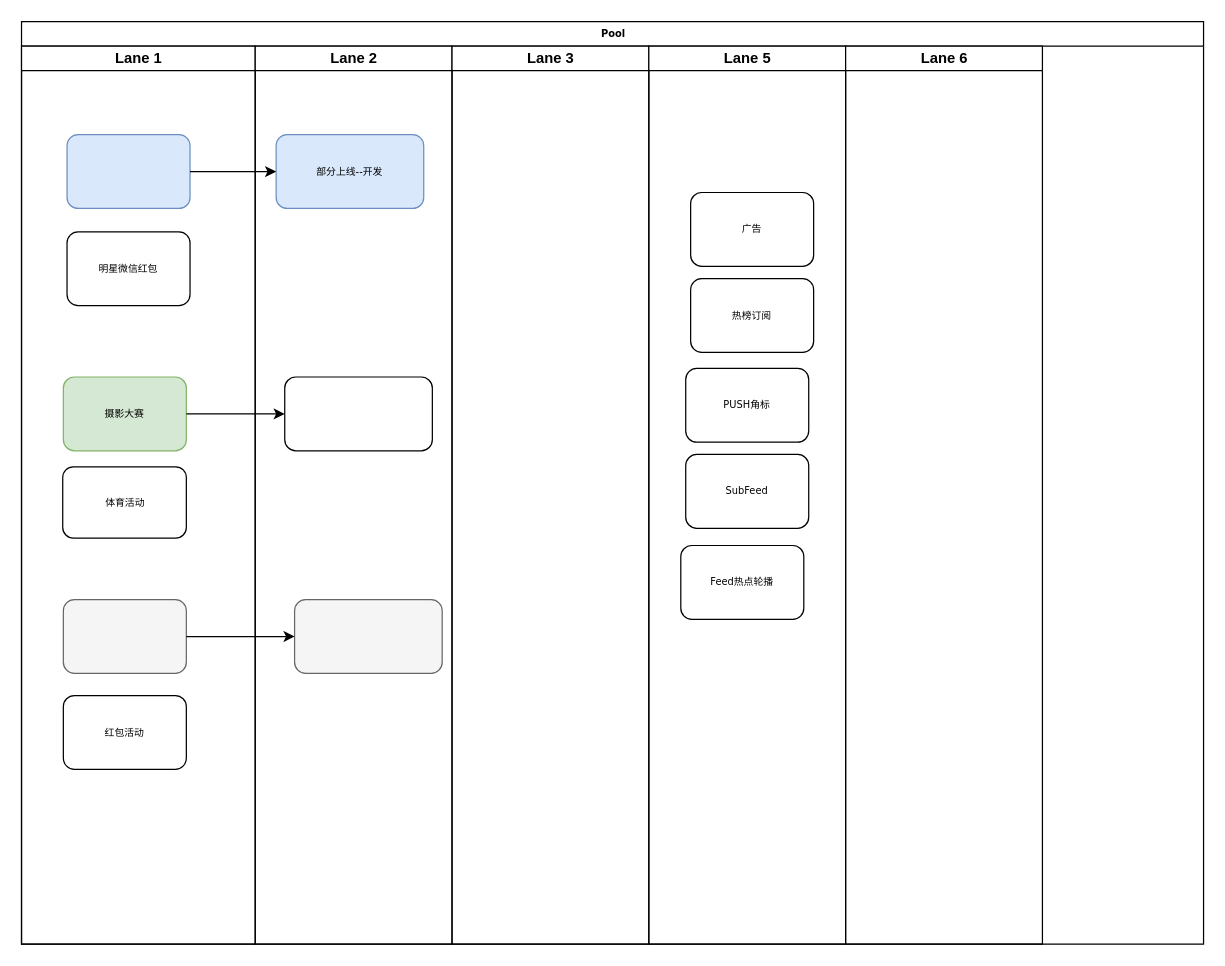
Some shapes in this 1225 by 966 pixel diagram are drawn without their labels. Each missing label, with the centre of its shape:
"二期未开发" belongs at pixel 367 635.
"开发中" belongs at pixel 358 413.
"明星新知充电站" belongs at pixel 128 170.
"红包朵朵开 全民摇一摇 摇钱树" belongs at pixel 124 635.
